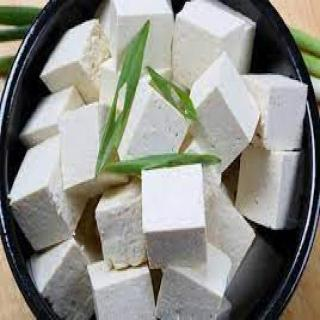Tahu: (3, 5, 317, 320)
